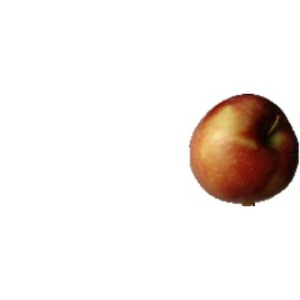maçã braeburn: (184, 90, 300, 206)
